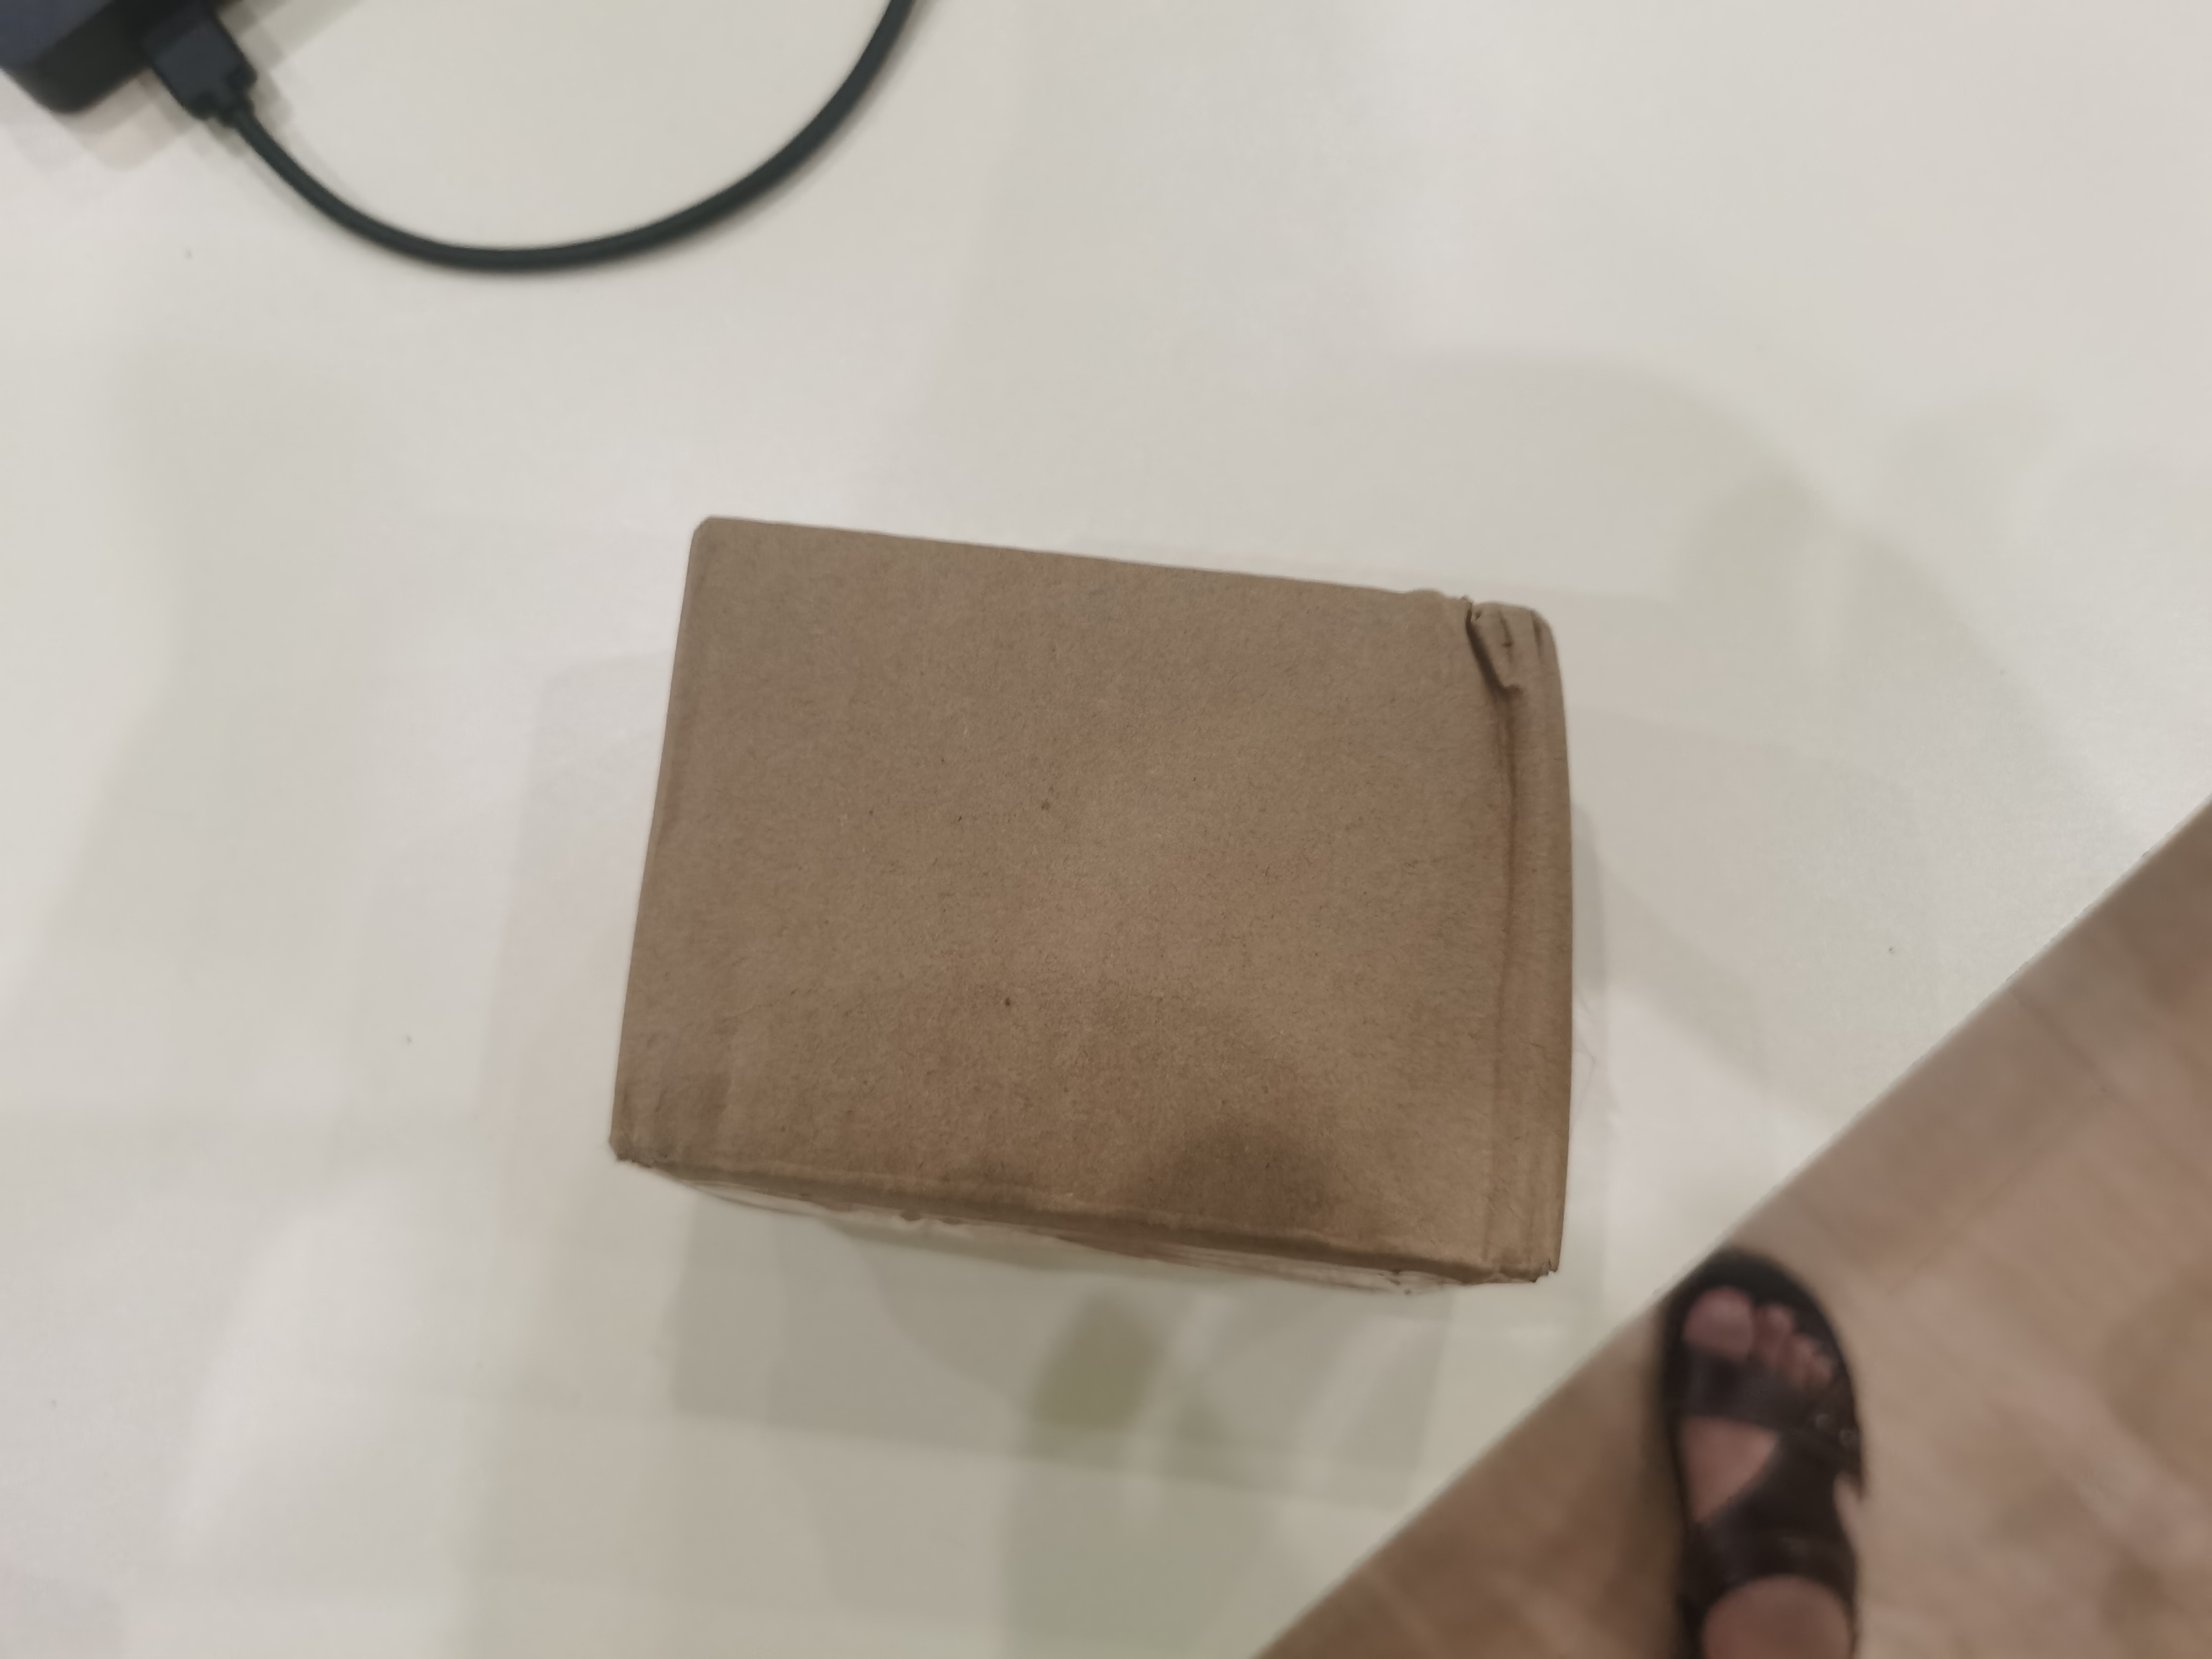box: (545, 486, 1635, 1387)
